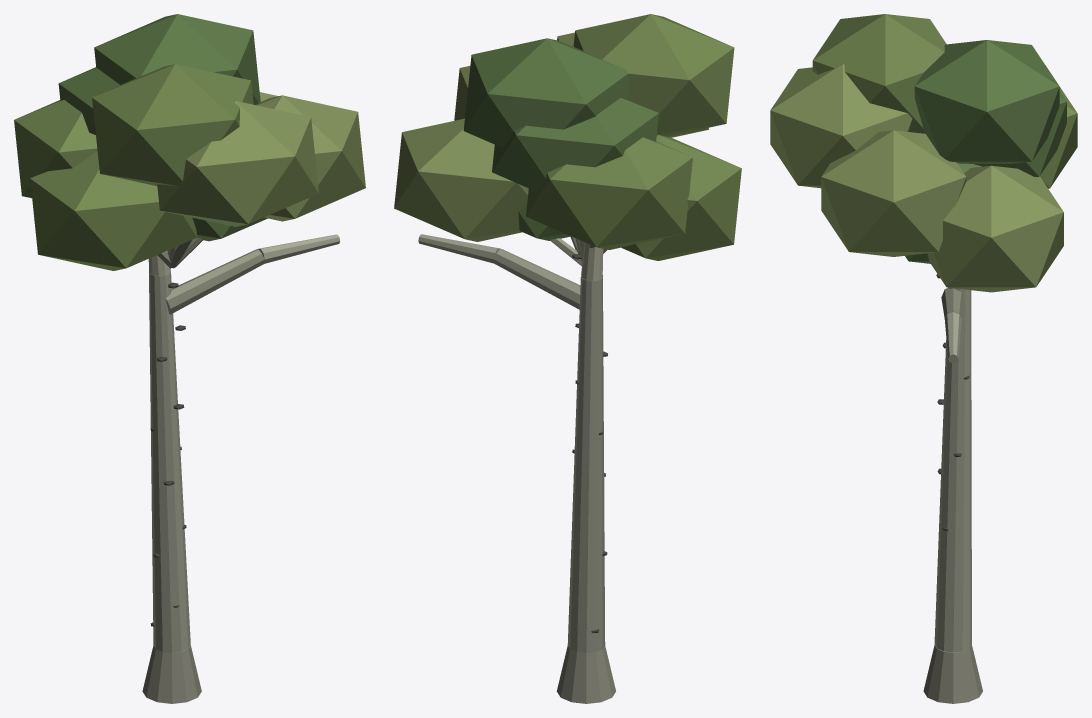
The model's file is swing_tree.glb.
3 views of the same model, side by side, from view 1: azimuth 30°, elevation 25°; view 2: azimuth 150°, elevation 25°; view 3: azimuth 270°, elevation 25° (orthographic).
Visible parts, largest first — view 1: swing_tree; view 2: swing_tree; view 3: swing_tree.
Part boxes in pixels (left/top/right/bottom): swing_tree: left=14, top=14, right=365, bottom=703; swing_tree: left=394, top=14, right=741, bottom=703; swing_tree: left=770, top=14, right=1077, bottom=703.
Size of the model in its own units: 4.17 by 8.57 by 3.6.
